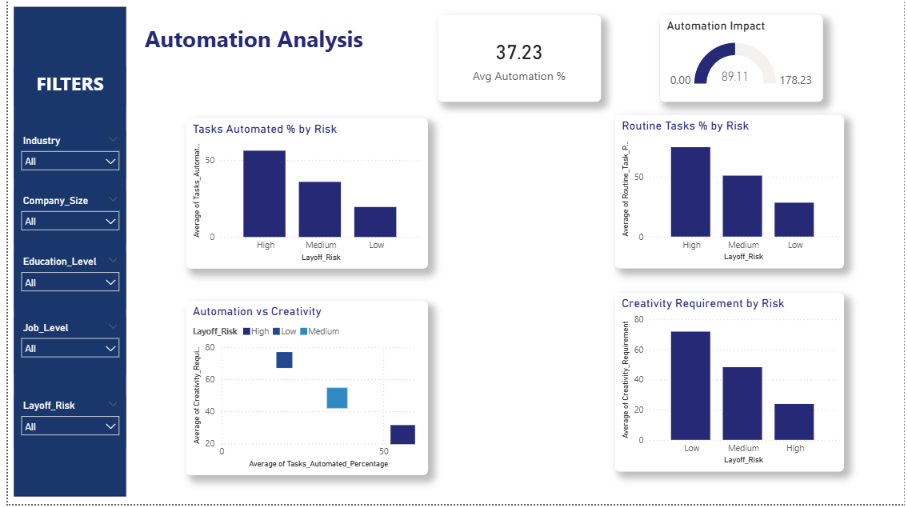

Layout of this report page (visuals, bound fields, positions):
{"tool":"powerbi","page":{"name":"Automation Analysis","canvas":[1280,720],"ordinal":9},"visuals":[{"type":"shape","box":[8.7,10,160,699.1],"z":0},{"type":"textbox","box":[8.4,96.4,160.2,55.4],"z":1000},{"type":"slicer","fields":{"Values":["AI_Impact_Cleaned.Industry"]},"box":[8.4,186.7,160.2,66.3],"z":2000},{"type":"slicer","fields":{"Values":["AI_Impact_Cleaned.Company_Size"]},"box":[8.4,273.5,160.2,75.9],"z":3000},{"type":"slicer","fields":{"Values":["AI_Impact_Cleaned.Education_Level"]},"box":[8.4,360.2,160.2,80.7],"z":4000},{"type":"slicer","fields":{"Values":["AI_Impact_Cleaned.Job_Level"]},"box":[8.4,454.2,160.2,80.7],"z":5000},{"type":"slicer","fields":{"Values":["AI_Impact_Cleaned.Layoff_Risk"]},"box":[8.4,566.3,160.2,74.7],"z":6000},{"type":"textbox","box":[190.3,28.6,449.1,67.2],"z":6001},{"type":"card","fields":{"Values":["AI_Impact_Cleaned.Avg Automation %"]},"box":[614.5,21.1,232.6,124.4],"z":6002},{"type":"gauge","fields":{"Y":["AI_Impact_Cleaned.Automation Impact"]},"box":[931.7,21.1,232.6,124.4],"z":6003},{"type":"clusteredColumnChart","title":"Tasks Automated % by Risk","fields":{"Category":["AI_Impact_Cleaned.Layoff_Risk"],"Y":["Avg(AI_Impact_Cleaned.Tasks_Automated_Percentage)"]},"box":[253.8,167.9,345.8,215.2],"z":6004},{"type":"clusteredColumnChart","title":"Routine Tasks % by Risk","fields":{"Category":["AI_Impact_Cleaned.Layoff_Risk"],"Y":["Avg(AI_Impact_Cleaned.Routine_Task_Percentage)"]},"box":[867,164.2,327.2,218.9],"z":6005},{"type":"clusteredColumnChart","title":"Creativity Requirement by Risk","fields":{"Category":["AI_Impact_Cleaned.Layoff_Risk"],"Y":["Avg(AI_Impact_Cleaned.Creativity_Requirement)"]},"box":[867,418,327.2,255],"z":6006},{"type":"scatterChart","title":"Automation vs Creativity","fields":{"Series":["AI_Impact_Cleaned.Layoff_Risk"],"Size":["Avg(AI_Impact_Cleaned.Routine_Task_Percentage)"],"Y":["AI_Impact_Cleaned.Creativity_Requirement"],"X":["AI_Impact_Cleaned.Tasks_Automated_Percentage"]},"box":[253.8,430.4,345.8,248.8],"z":6007}]}

Visuals, with their boxes in screenshot pixels (x1, y1, x2, y2), scaled from the page's 1280x720 canvas onto the 907x507 screenshot:
shape: (left=6, top=7, right=120, bottom=499)
textbox: (left=6, top=68, right=119, bottom=107)
slicer - AI_Impact_Cleaned.Industry: (left=6, top=131, right=119, bottom=178)
slicer - AI_Impact_Cleaned.Company_Size: (left=6, top=193, right=119, bottom=246)
slicer - AI_Impact_Cleaned.Education_Level: (left=6, top=254, right=119, bottom=310)
slicer - AI_Impact_Cleaned.Job_Level: (left=6, top=320, right=119, bottom=377)
slicer - AI_Impact_Cleaned.Layoff_Risk: (left=6, top=399, right=119, bottom=451)
textbox: (left=135, top=20, right=453, bottom=67)
card - AI_Impact_Cleaned.Avg Automation %: (left=435, top=15, right=600, bottom=102)
gauge - AI_Impact_Cleaned.Automation Impact: (left=660, top=15, right=825, bottom=102)
"Tasks Automated % by Risk" clusteredColumnChart: (left=180, top=118, right=425, bottom=270)
"Routine Tasks % by Risk" clusteredColumnChart: (left=614, top=116, right=846, bottom=270)
"Creativity Requirement by Risk" clusteredColumnChart: (left=614, top=294, right=846, bottom=474)
"Automation vs Creativity" scatterChart: (left=180, top=303, right=425, bottom=478)
